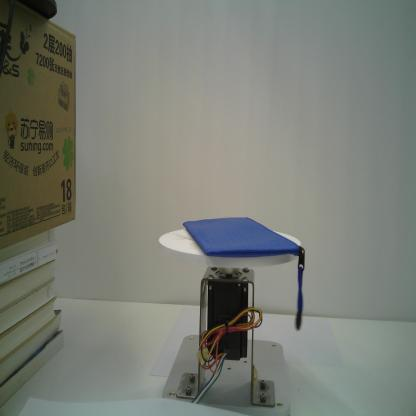Stationery: (181, 216, 307, 331)
